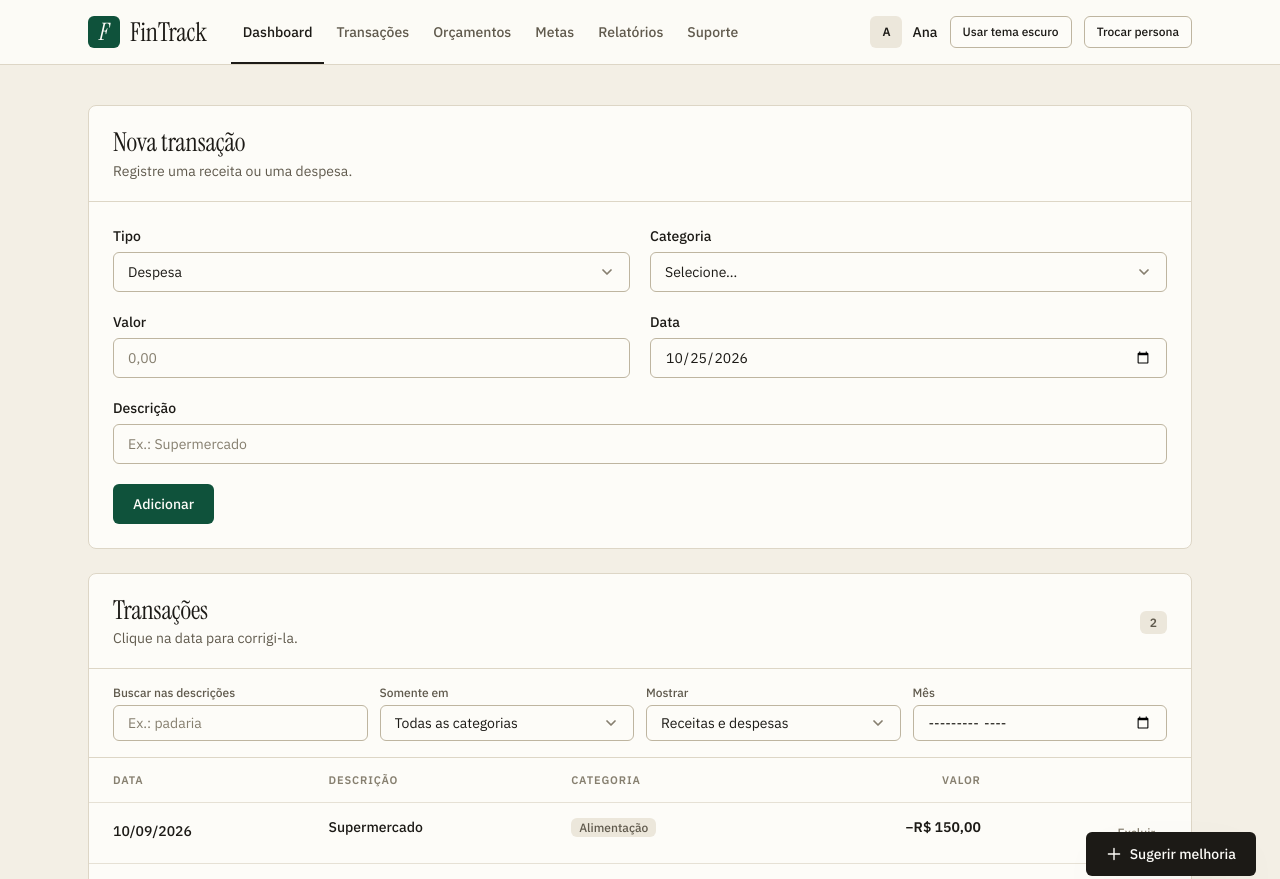
Test case: transações › mostra o erro 422 no campo que o causou
This screenshot has width=1280, height=879.
Expected: the text "Supermercado" is shown, top-left (304, 802), bottom-right (547, 864)
Select "Alimentação" in the dropdown labelled "Categoria": point(908, 272) top-left (650, 252), bottom-right (1167, 292)
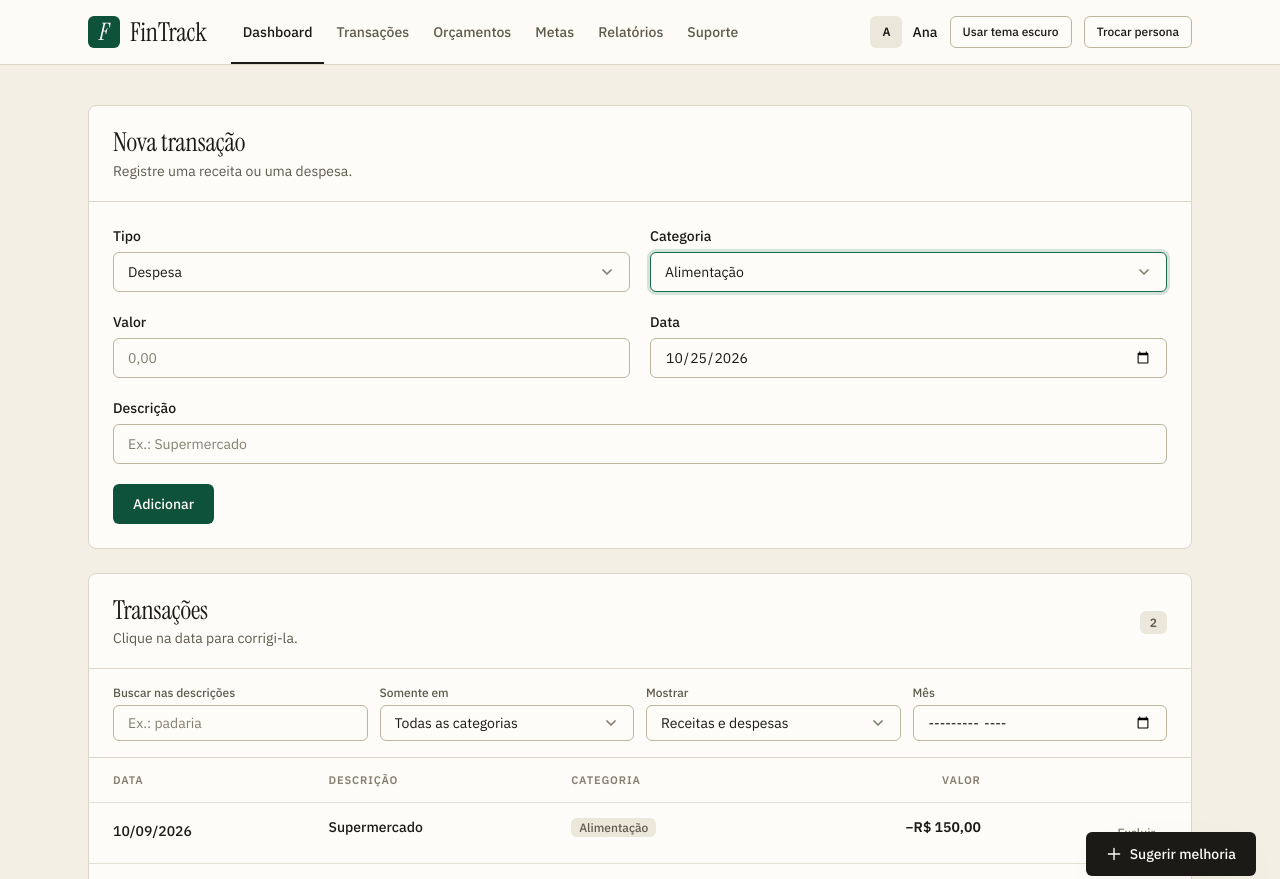
In the number field labelled "Valor": point(372, 358) top-left (113, 338), bottom-right (630, 378), type "10"
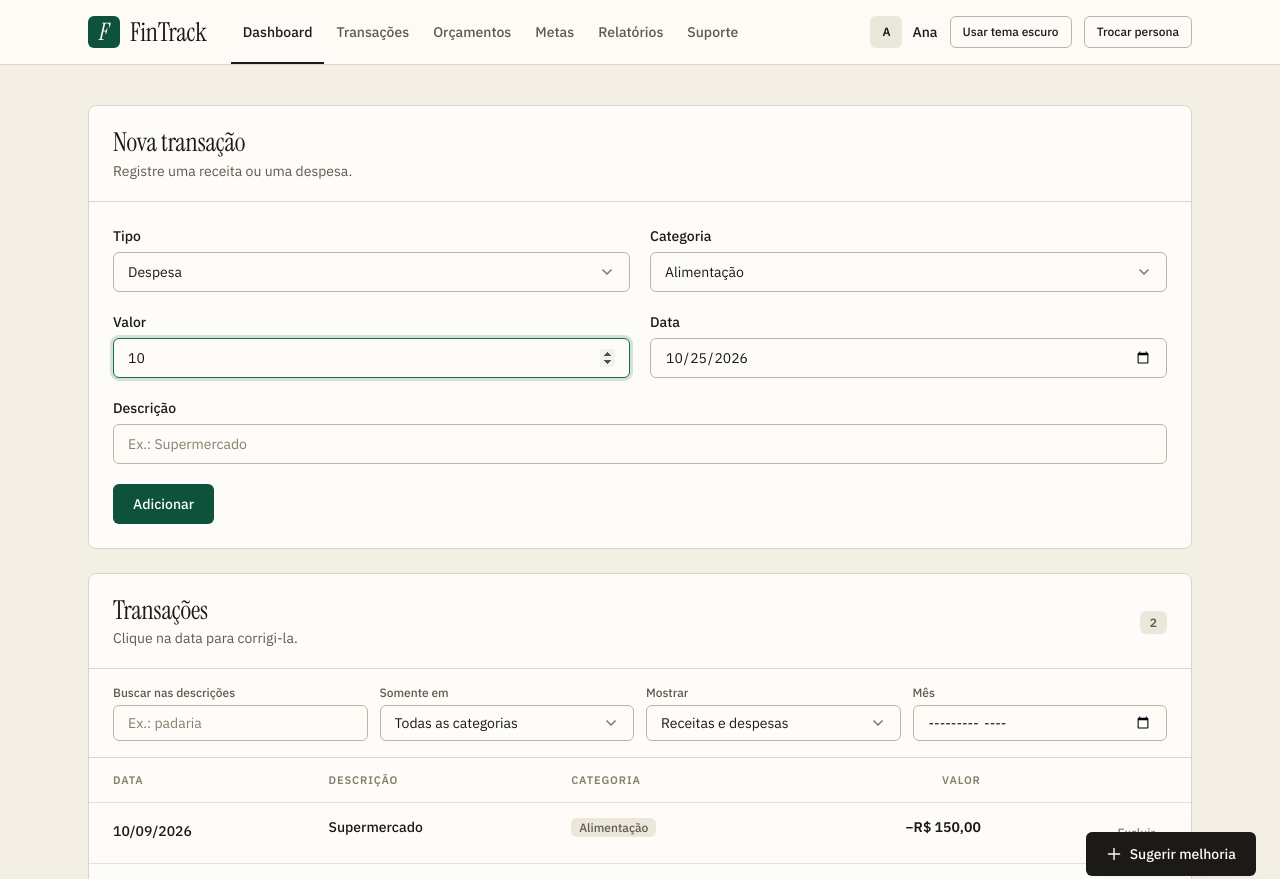
Click the button "Adicionar": point(164, 504) top-left (113, 484), bottom-right (214, 524)
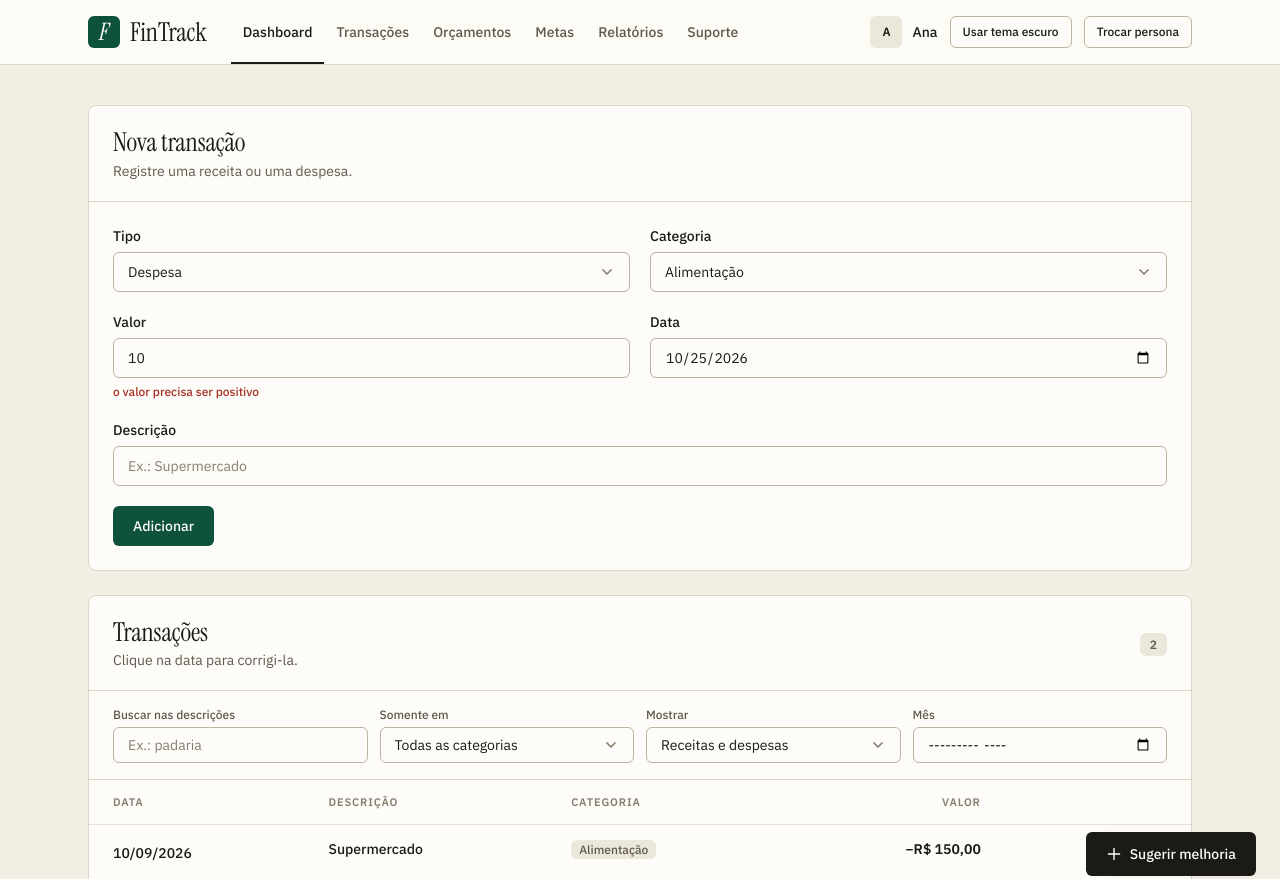
Expected: the text "o valor precisa ser positivo" is shown, top-left (113, 384), bottom-right (259, 398)
